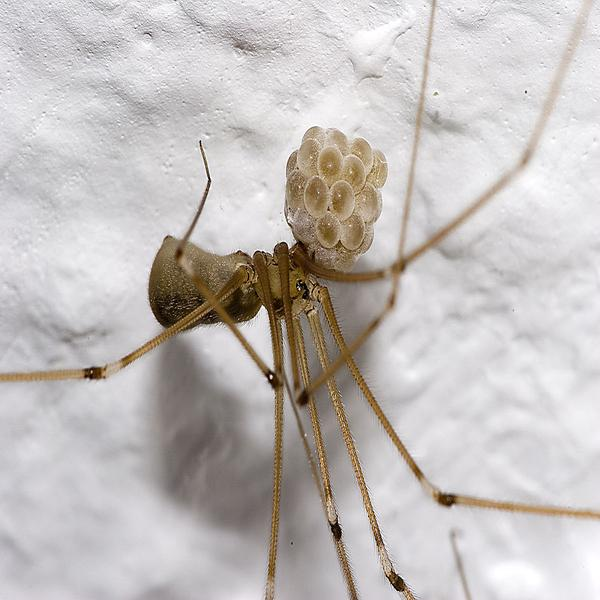Daddy Long Legs Spider: (1, 2, 600, 599)
